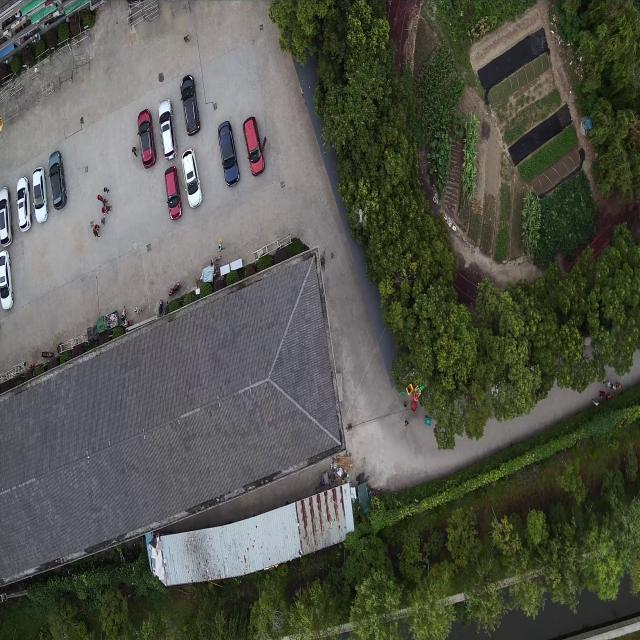UAV: (354, 209, 367, 227)
